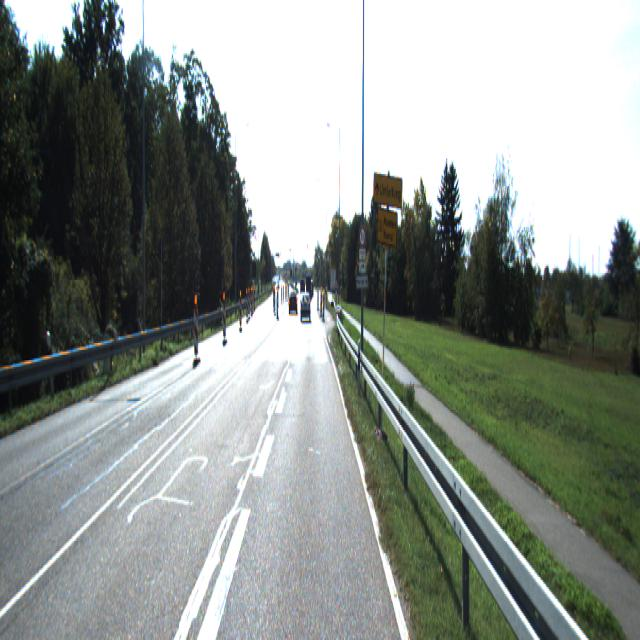Car: (301, 294, 311, 322), (288, 292, 298, 316)
